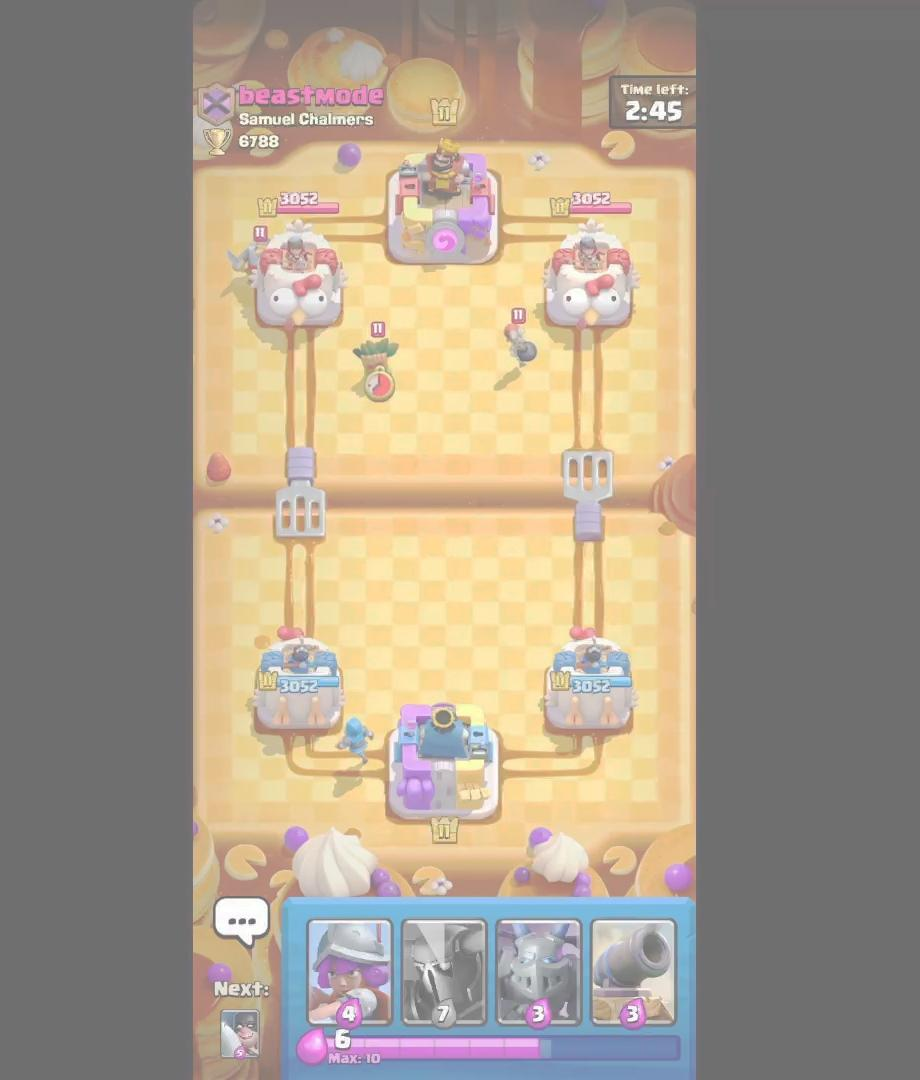Bomber: (489, 303, 545, 372)
Dart Goblin: (340, 322, 407, 405)
Knight: (226, 232, 288, 287)
